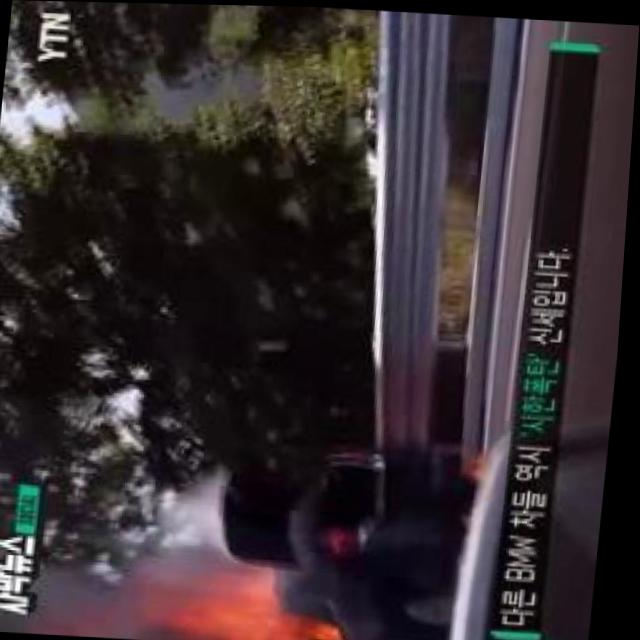Fire: (170, 563, 362, 640)
